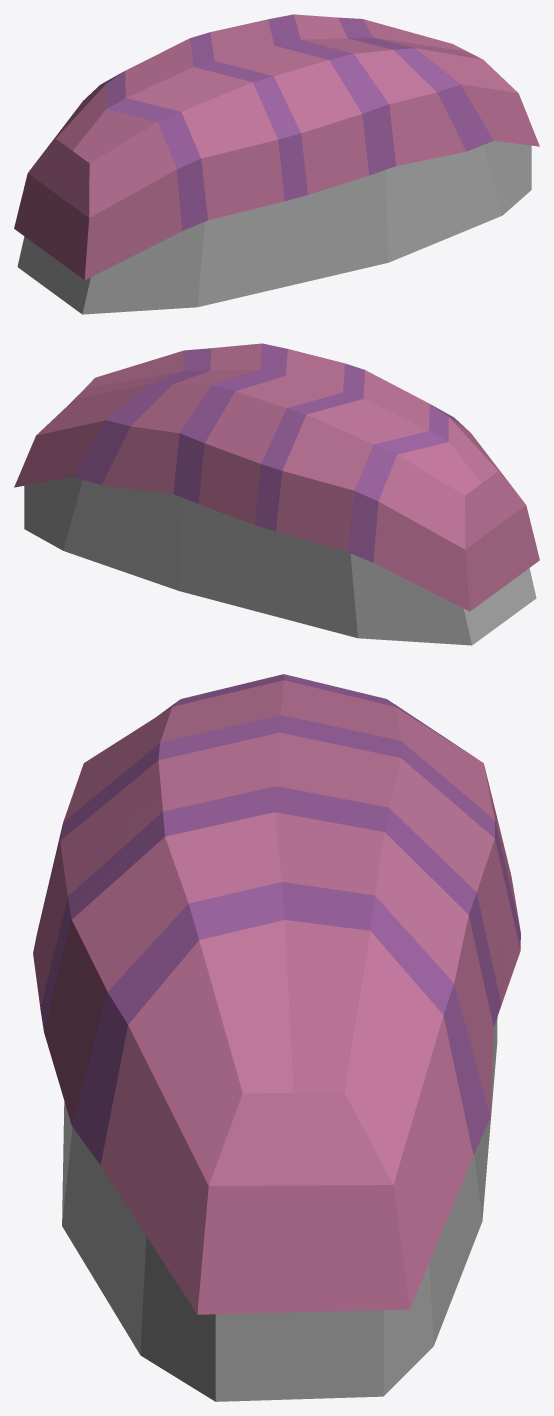
File: sushi_nigiri2.glb
The picture shows the model from 3 angles, top to bottom: view 1: azimuth 30°, elevation 25°; view 2: azimuth 150°, elevation 25°; view 3: azimuth 270°, elevation 25°; orthographic projection. The views are drawn at different scales.
Visible parts, largest first — view 1: Sushi_Nigiri2; view 2: Sushi_Nigiri2; view 3: Sushi_Nigiri2.
Part boxes in pixels (<box>): Sushi_Nigiri2: <box>14,14,539,314</box>; Sushi_Nigiri2: <box>14,343,539,645</box>; Sushi_Nigiri2: <box>33,674,520,1401</box>.
Size of the model in its own units: 0.5976 by 0.2344 by 0.2716.
